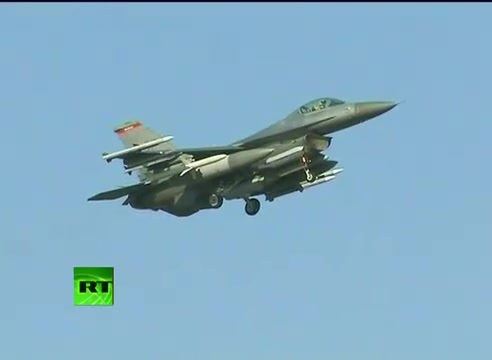aeroplane: (87, 96, 403, 221)
